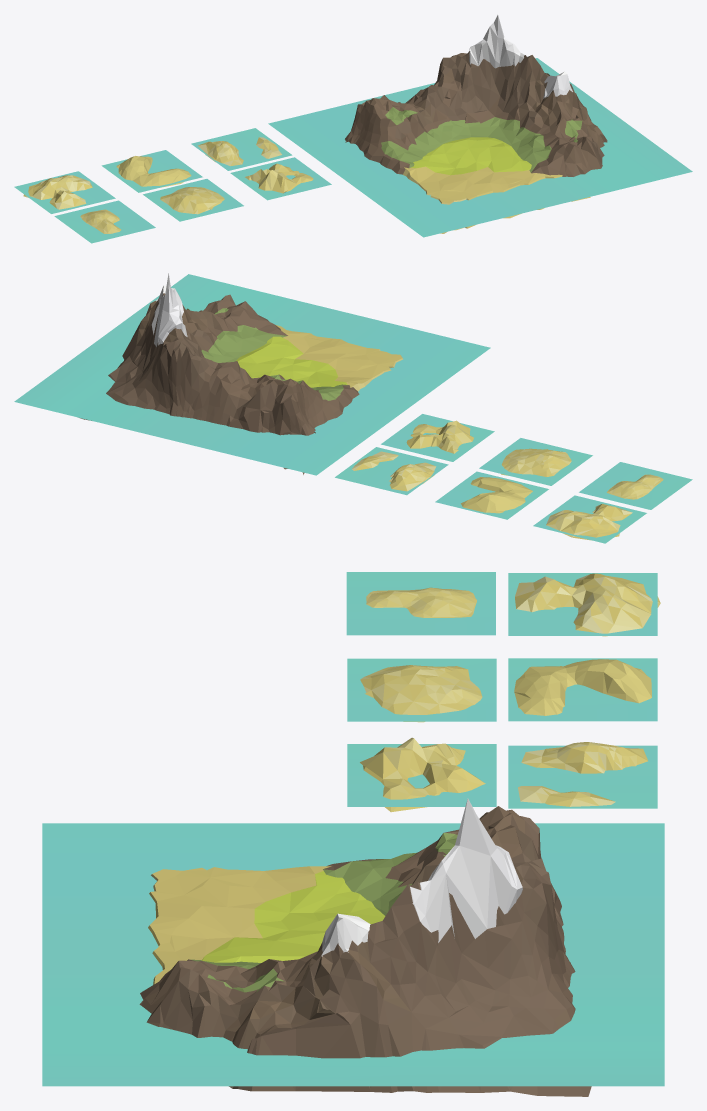
Rendered from Low Poly Pirate Landscapes.obj.
3 renders of one model, top to bottom at view 1: azimuth 30°, elevation 25°; view 2: azimuth 150°, elevation 25°; view 3: azimuth 270°, elevation 25°, orthographic. The views are drawn at different scales.
Visible parts, largest first — view 1: Land_1, Water_1, Water_2, Water_7, Land_5, Water_4, Land_6, Water_3, Water_6, Land_3, Land_4, Water_5 (+2 smaller); view 2: Water_1, Land_1, Water_2, Land_5, Water_7, Water_4, Land_6, Water_3, Land_3, Water_6, Land_4, Land_7 (+2 smaller); view 3: Water_1, Land_1, Water_2, Water_7, Land_5, Water_4, Land_6, Water_3, Water_6, Land_3, Land_4, Land_7 (+2 smaller).
Part boxes in pixels (box(x1,y1,x2,y2)): Land_1: box(345, 15, 607, 233); Water_1: box(268, 58, 692, 237); Water_2: box(54, 200, 155, 243); Water_7: box(191, 128, 292, 170); Land_5: box(23, 175, 92, 209); Water_4: box(230, 157, 331, 200); Land_6: box(116, 156, 191, 187); Water_3: box(143, 179, 243, 221); Water_6: box(101, 150, 202, 192); Land_3: box(160, 187, 224, 214); Land_4: box(245, 163, 313, 193); Water_5: box(14, 171, 115, 213); Water_1: box(14, 274, 490, 475); Land_1: box(80, 273, 402, 474); Water_2: box(579, 462, 692, 509); Land_5: box(546, 504, 632, 540); Water_7: box(335, 447, 448, 495); Water_4: box(381, 414, 494, 461); Land_6: box(461, 477, 532, 513); Water_3: box(479, 438, 592, 485); Land_3: box(501, 448, 571, 476); Water_6: box(435, 471, 548, 519); Land_4: box(406, 420, 473, 453); Land_7: box(352, 451, 436, 491); Water_1: box(42, 823, 664, 1086); Land_1: box(139, 798, 591, 1096); Water_2: box(346, 572, 495, 635); Water_7: box(508, 745, 657, 808); Land_5: box(515, 573, 660, 636); Water_4: box(347, 744, 496, 806); Land_6: box(514, 659, 651, 715); Water_3: box(347, 658, 496, 721); Water_6: box(508, 658, 657, 721); Land_3: box(360, 665, 482, 722); Land_4: box(360, 737, 485, 812); Land_7: box(518, 742, 647, 806).
Size of the model in its own units: 7018 by 1646 by 3591.
1 material, 1 textured.
